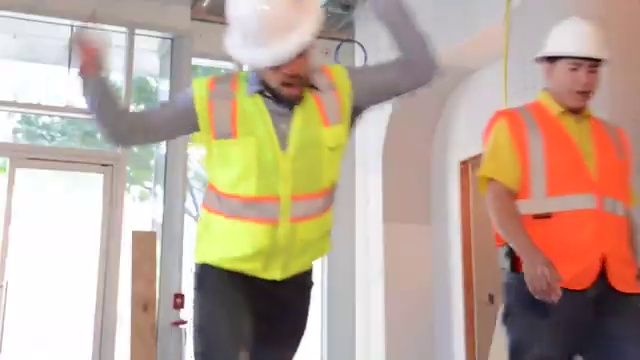helmet: (528, 11, 618, 72)
jacket: (192, 64, 348, 291), (480, 91, 640, 302)
